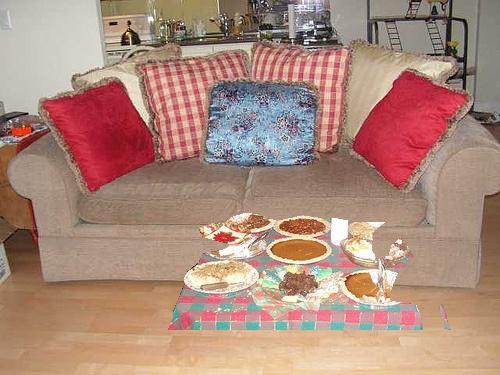tampered: (169, 214, 451, 330)
